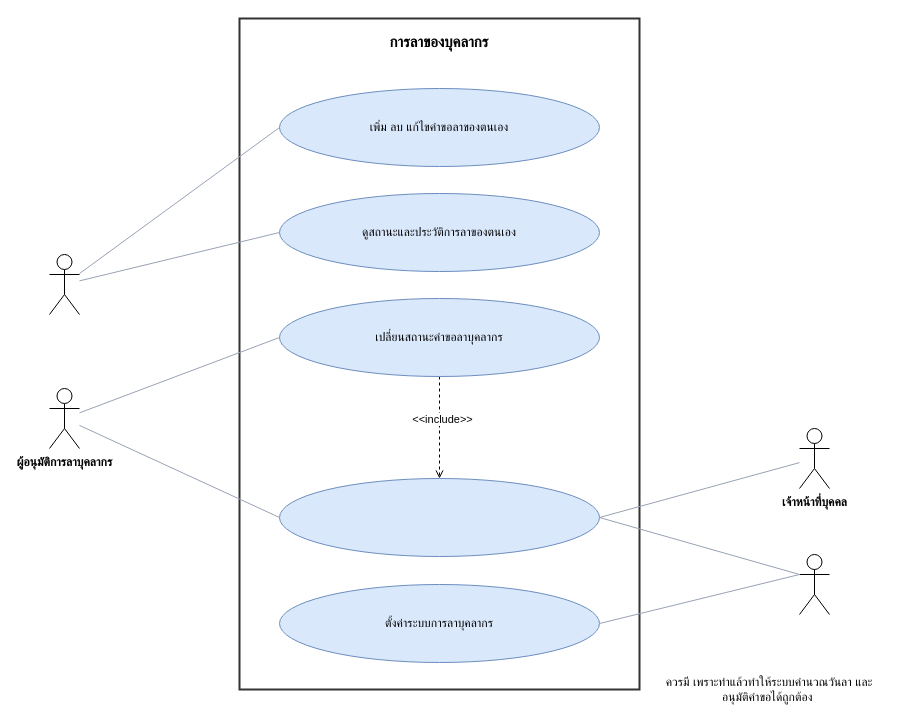
Some shapes in this 897 by 721 pixel diagram are drawn without their labels. Here are the shapes that lost their labels. From the top down, the centre of each, then its label:
point 64,284: ครู / บุคลากร
point 439,517: ดูประวัติการลารายบุคคล
point 814,584: ผู้ดูแลระบบ
